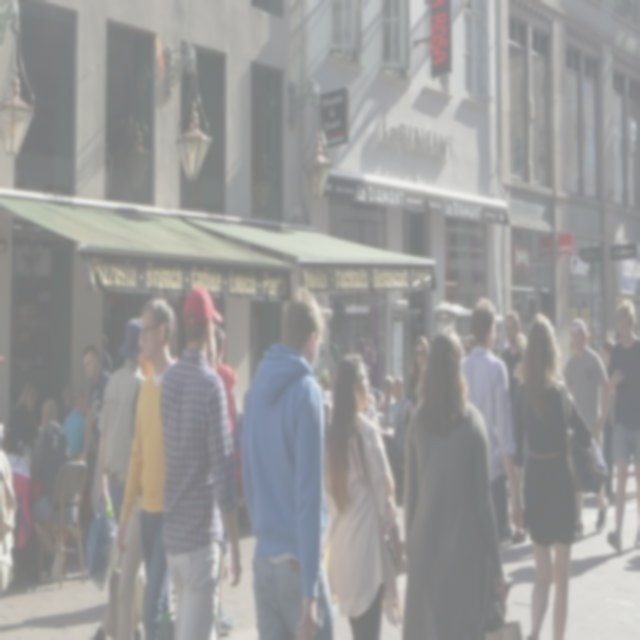pessoa: (238, 281, 340, 639), (506, 305, 610, 639), (402, 326, 510, 638), (154, 273, 246, 639), (324, 348, 408, 639), (115, 293, 181, 639), (458, 296, 522, 616), (94, 314, 148, 532), (560, 317, 612, 543), (604, 293, 640, 555), (27, 397, 73, 584), (80, 342, 112, 464), (212, 324, 240, 442), (7, 376, 43, 451), (62, 384, 98, 454), (600, 338, 615, 498), (499, 311, 526, 388), (406, 334, 431, 409), (387, 376, 407, 424), (98, 330, 114, 380), (205, 318, 218, 374), (382, 373, 396, 408), (462, 333, 472, 358)
